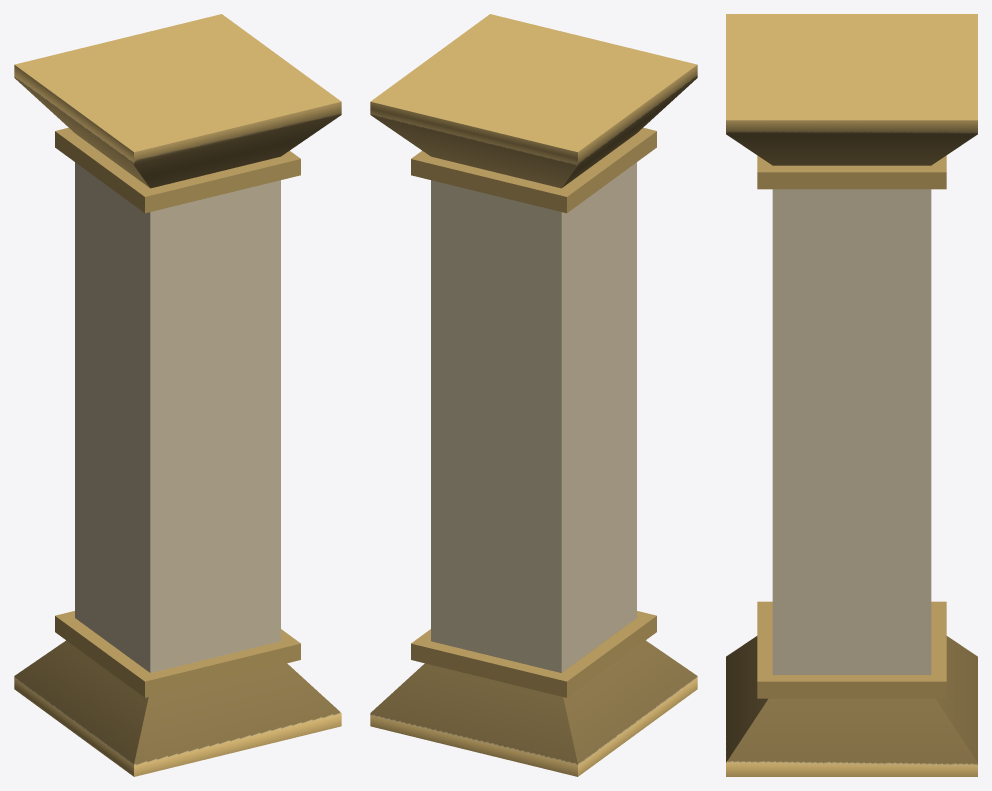
The model's file is pillar.fbx.
3 views of the same model, side by side, from view 1: azimuth 30°, elevation 25°; view 2: azimuth 150°, elevation 25°; view 3: azimuth 270°, elevation 25° (orthographic). The views are drawn at different scales.
Visible parts, largest first — view 1: pCube6; view 2: pCube6; view 3: pCube6.
Part boxes in pixels (x1,y1,x2,y2): pCube6: (14, 14, 341, 776); pCube6: (370, 14, 697, 776); pCube6: (726, 14, 977, 776).
Bounding box in the file's own units: 395 × 1136 × 395.
1 material, 1 textured.
